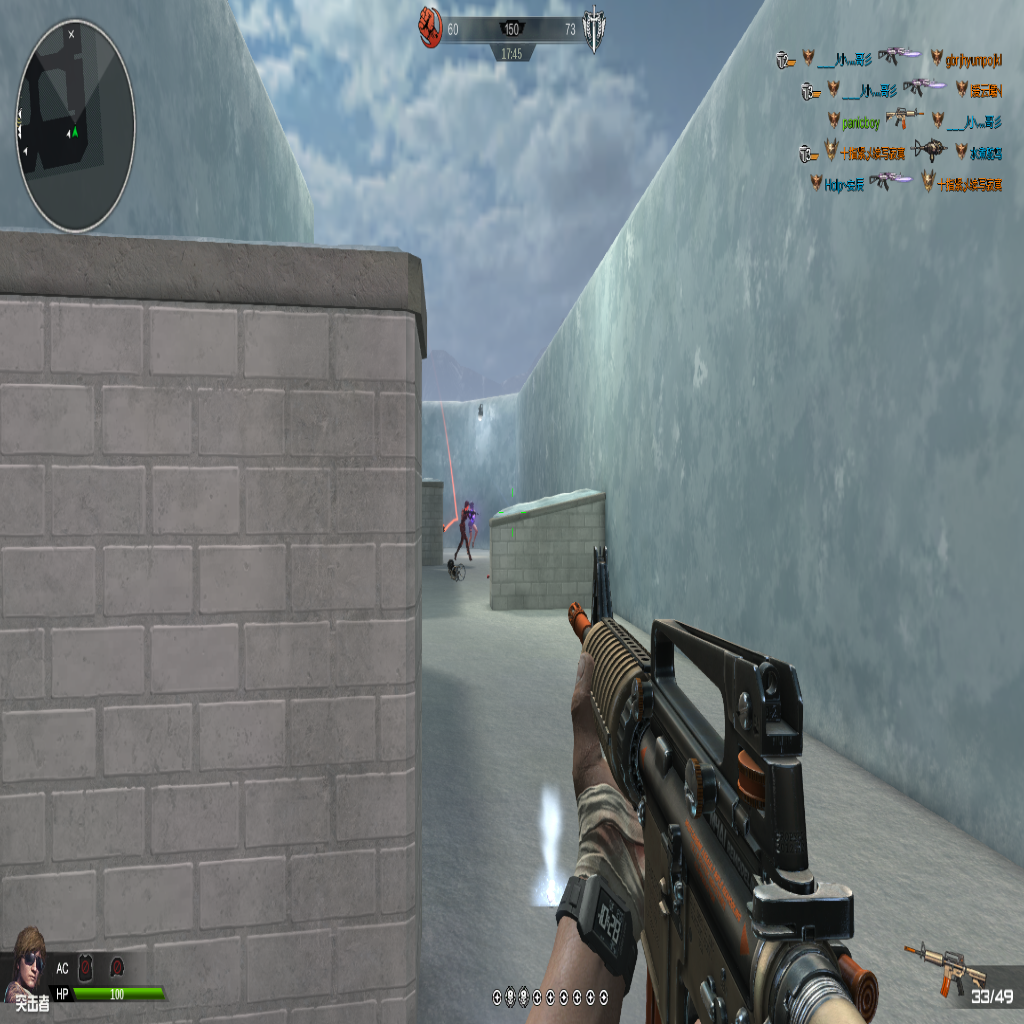ct: (446, 495, 476, 567)
